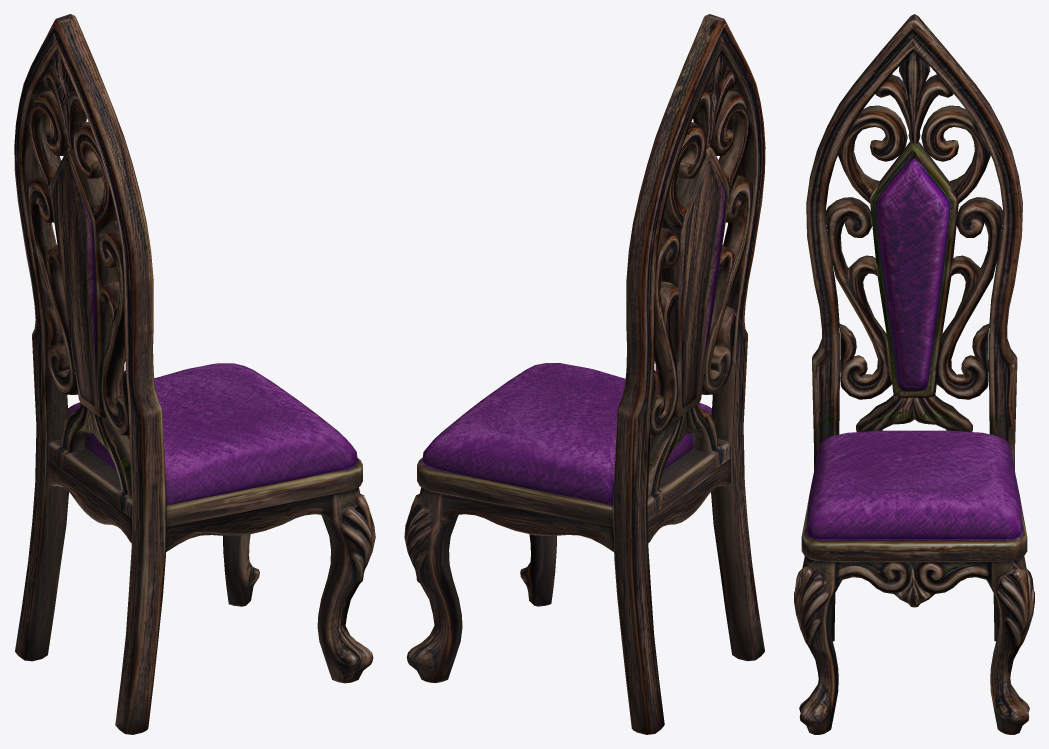
Rendered from SM_Env_BaskervilleDiningChair.fbx.
3 renders of one model, left to right at view 1: azimuth 30°, elevation 25°; view 2: azimuth 150°, elevation 25°; view 3: azimuth 270°, elevation 25°, orthographic. The views are drawn at different scales.
Parts seen in each view (by area): view 1: SM_Env_BaskervilleDiningChair; view 2: SM_Env_BaskervilleDiningChair; view 3: SM_Env_BaskervilleDiningChair.
Boxes of the visible parts, x1,y1,x2,y2 form: SM_Env_BaskervilleDiningChair: (14,14,375,734); SM_Env_BaskervilleDiningChair: (404,14,765,734); SM_Env_BaskervilleDiningChair: (794,14,1034,734).
Size of the model in its own units: 13.33 by 11.72 by 33.
Materials: 1 (1 with a texture image).
